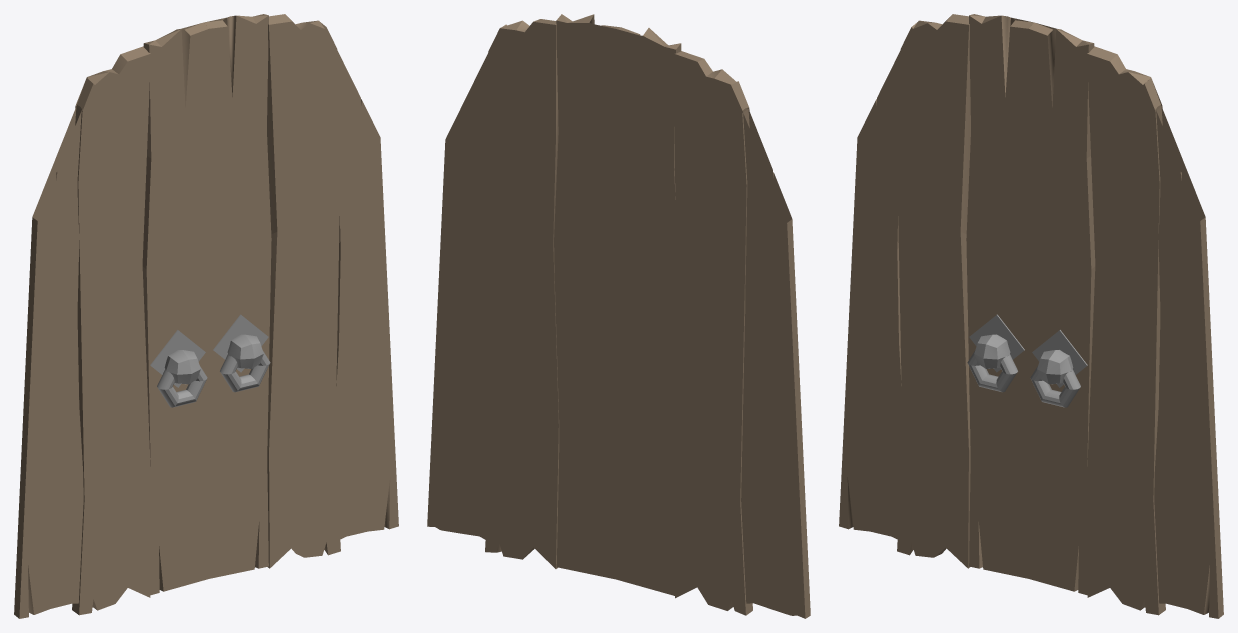
Rendered from Дверь в дом.fbx.
3 views of the same model, side by side, from view 1: azimuth 30°, elevation 25°; view 2: azimuth 150°, elevation 25°; view 3: azimuth 330°, elevation 25° (orthographic).
Parts seen in each view (by area): view 1: Дверь_лево_1; view 2: Дверь_лево_1; view 3: Дверь_лево_1.
Boxes of the visible parts, bbox=[...] form: Дверь_лево_1: bbox=[14, 14, 398, 618]; Дверь_лево_1: bbox=[427, 14, 810, 618]; Дверь_лево_1: bbox=[839, 14, 1223, 618].
Size of the model in its own units: 410 by 580 by 38.06.
